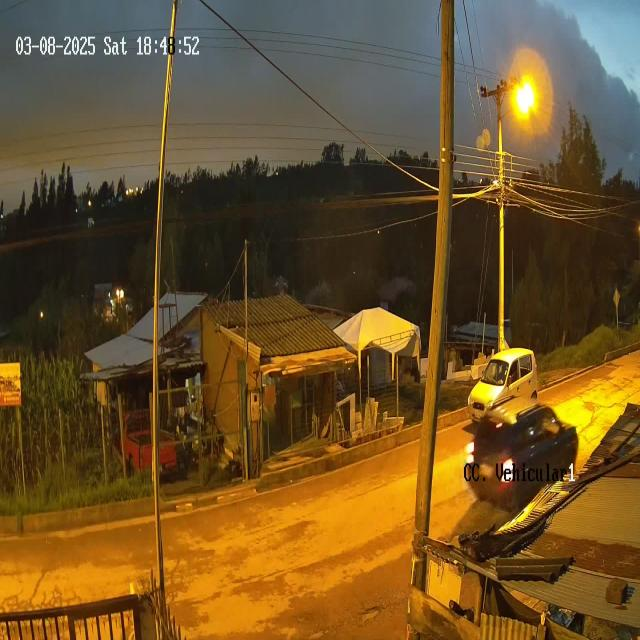SED: (465, 347, 538, 416)
SUV: (466, 402, 580, 514)
